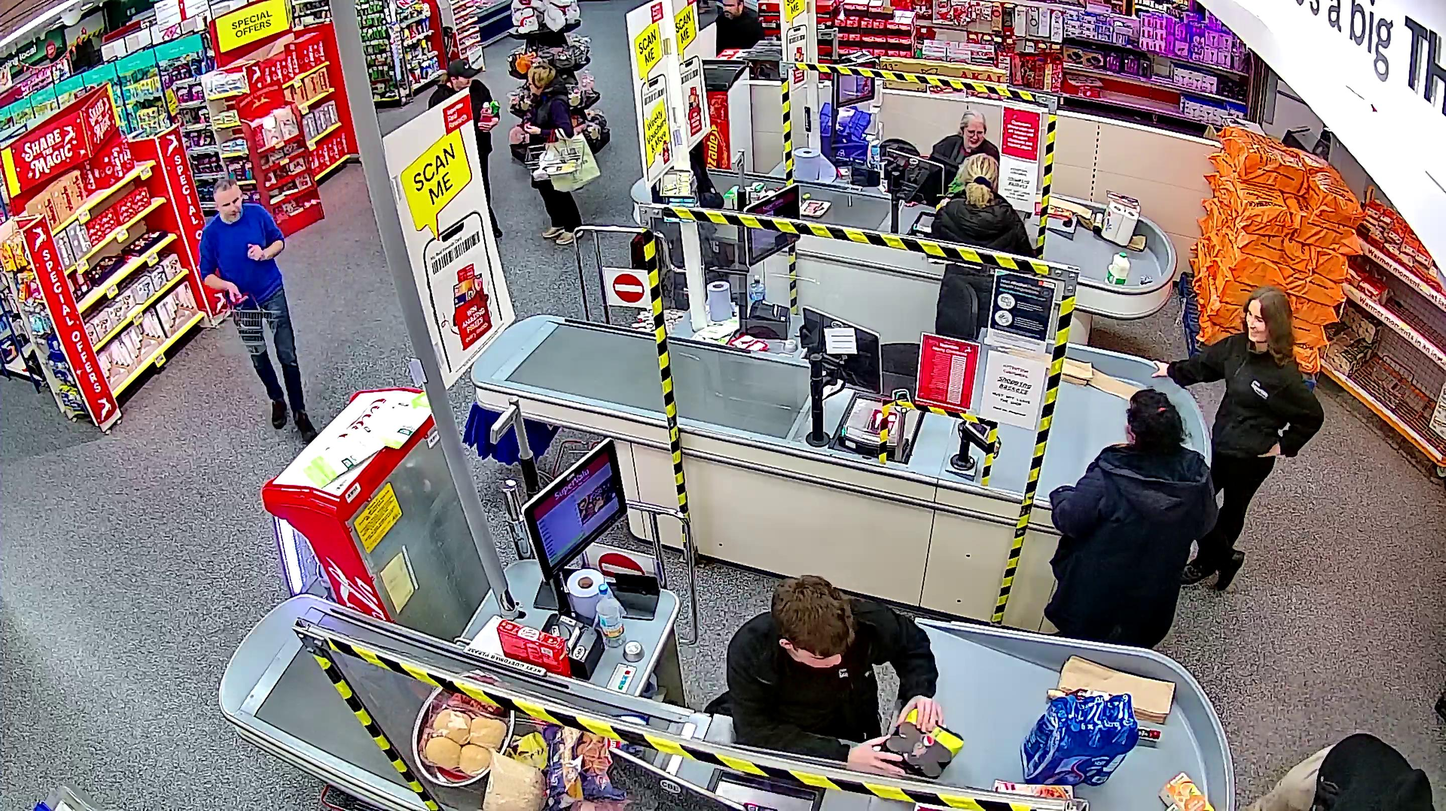empty-basket: (199, 300, 281, 355)
filled-basket: (526, 139, 584, 180)
filled-shopping-bags: (546, 132, 601, 192)
occupied-checkout-counter: (518, 433, 946, 811), (829, 53, 1039, 249)
person: (199, 179, 318, 440), (511, 62, 583, 245)
person-with-basket-trolly-and-shopping-bag: (511, 62, 601, 248)
person-with-empty-basket-trolly: (199, 179, 318, 436)
vacant-checkout-counter: (743, 179, 998, 477)
